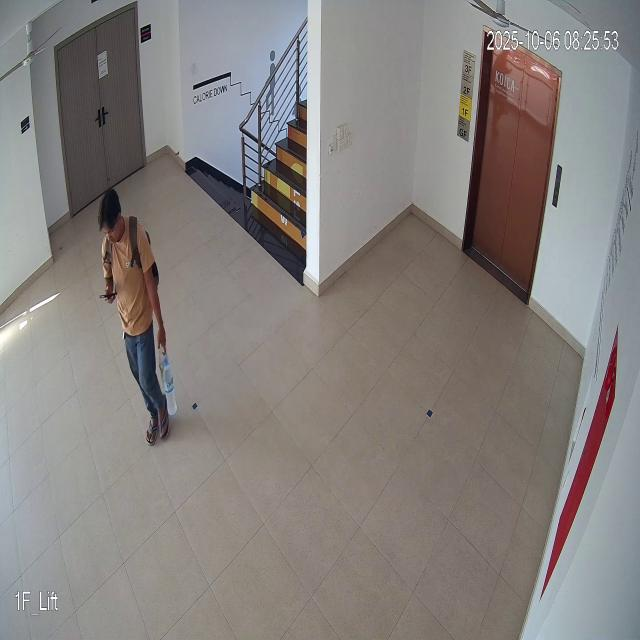face: (96, 187, 126, 248)
